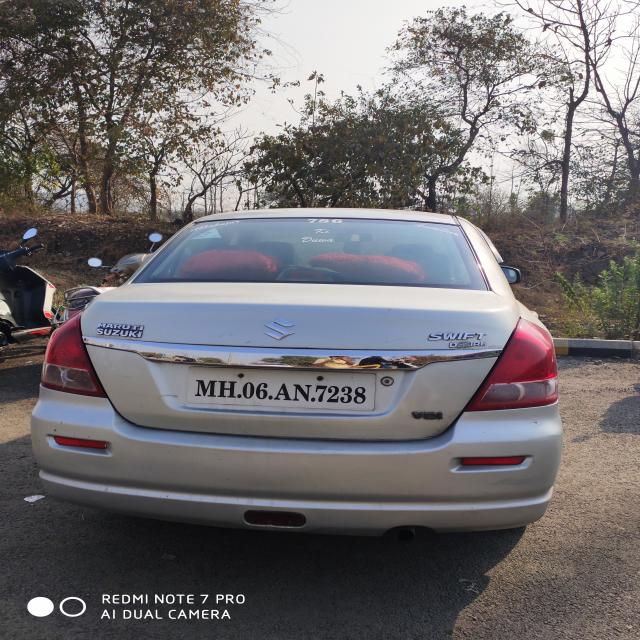Number-Plate: (190, 367, 373, 411)
